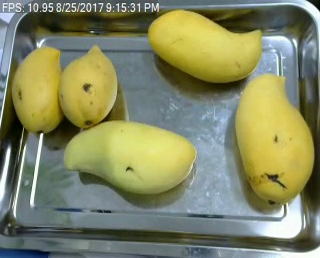Mango: (233, 68, 315, 201), (64, 118, 196, 194), (145, 10, 265, 82), (10, 44, 64, 138), (58, 43, 117, 128)
